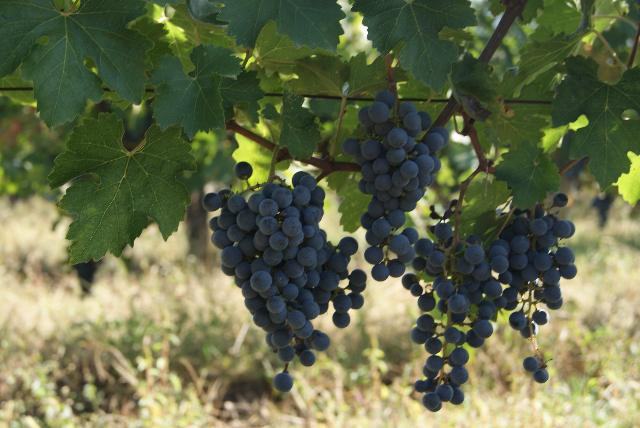grapes: (202, 172, 361, 366), (341, 90, 449, 280), (411, 222, 505, 411), (486, 202, 576, 384), (488, 205, 576, 309)
